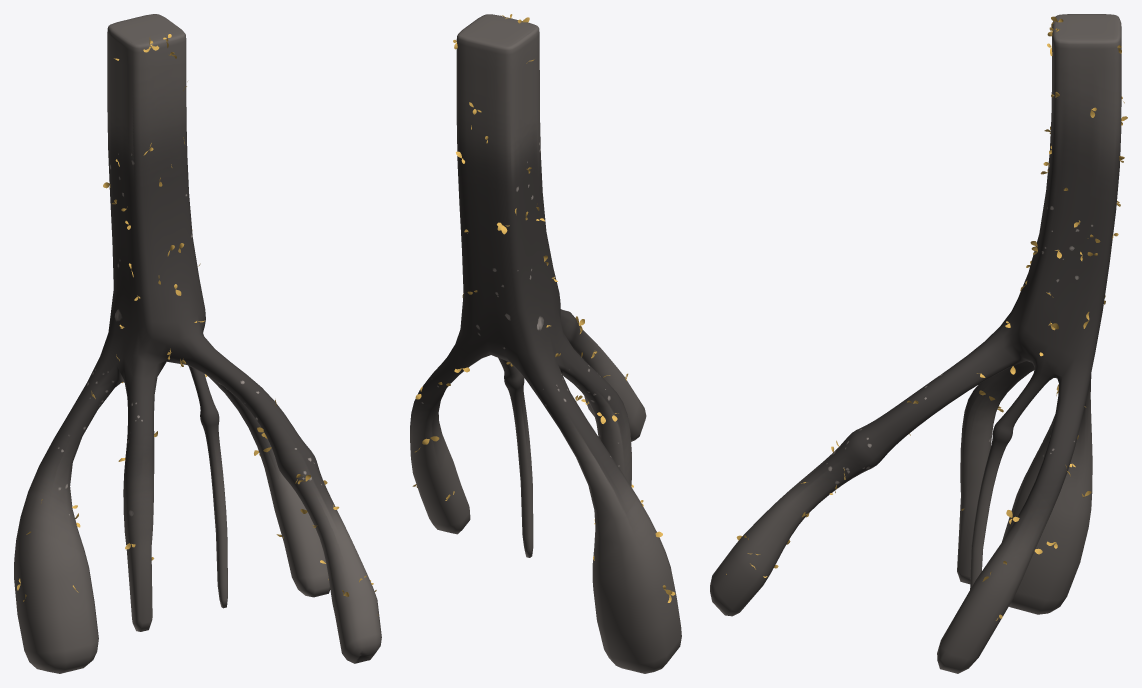
The model's file is BigTrunk.fbx.
3 renders of one model, left to right at view 1: azimuth 30°, elevation 25°; view 2: azimuth 150°, elevation 25°; view 3: azimuth 270°, elevation 25°, orthographic. The views are drawn at different scales.
Visible parts, largest first — view 1: Cube.021, 3_LEAF.002; view 2: Cube.021, 3_LEAF.002; view 3: Cube.021, 3_LEAF.002.
Part boxes in pixels (x1=…): Cube.021: x1=14, y1=14, x2=381, y2=673; 3_LEAF.002: x1=17, y1=34, x2=378, y2=615; Cube.021: x1=410, y1=14, x2=681, y2=673; 3_LEAF.002: x1=412, y1=14, x2=675, y2=602; Cube.021: x1=710, y1=14, x2=1121, y2=673; 3_LEAF.002: x1=726, y1=16, x2=1127, y2=620.
Bounding box in the file's own units: 959 × 2041 × 1200.
